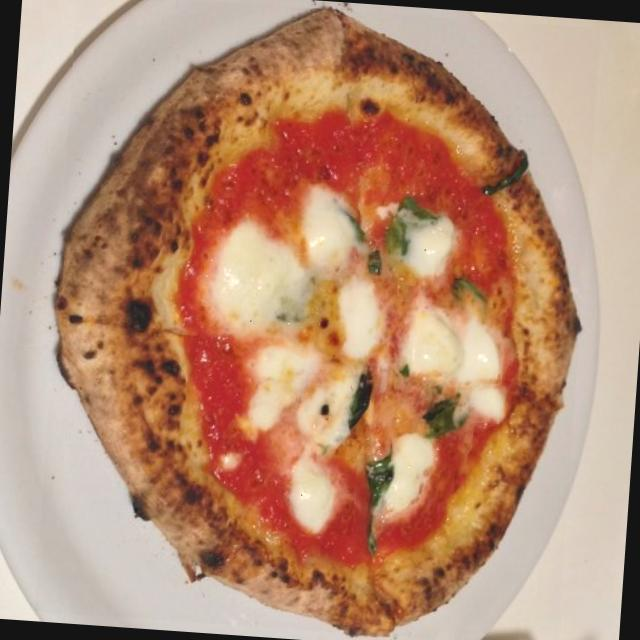basil: (354, 183, 440, 286), (350, 449, 401, 552), (428, 384, 472, 442), (348, 366, 380, 441)
cheese: (392, 298, 506, 422), (198, 230, 316, 346), (271, 446, 356, 534), (375, 422, 443, 528)
pizza: (56, 8, 578, 633)
